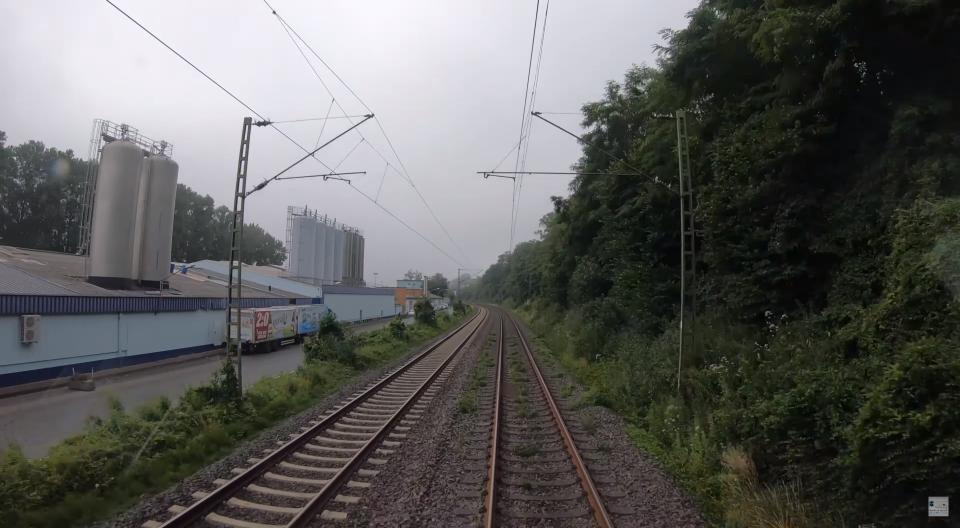Plant: (628, 423, 690, 486), (558, 374, 596, 411), (532, 338, 566, 377), (469, 337, 494, 389), (506, 336, 530, 382), (514, 386, 534, 418), (578, 411, 596, 434), (512, 444, 539, 457), (458, 395, 476, 414), (597, 441, 612, 451), (517, 481, 532, 490)
